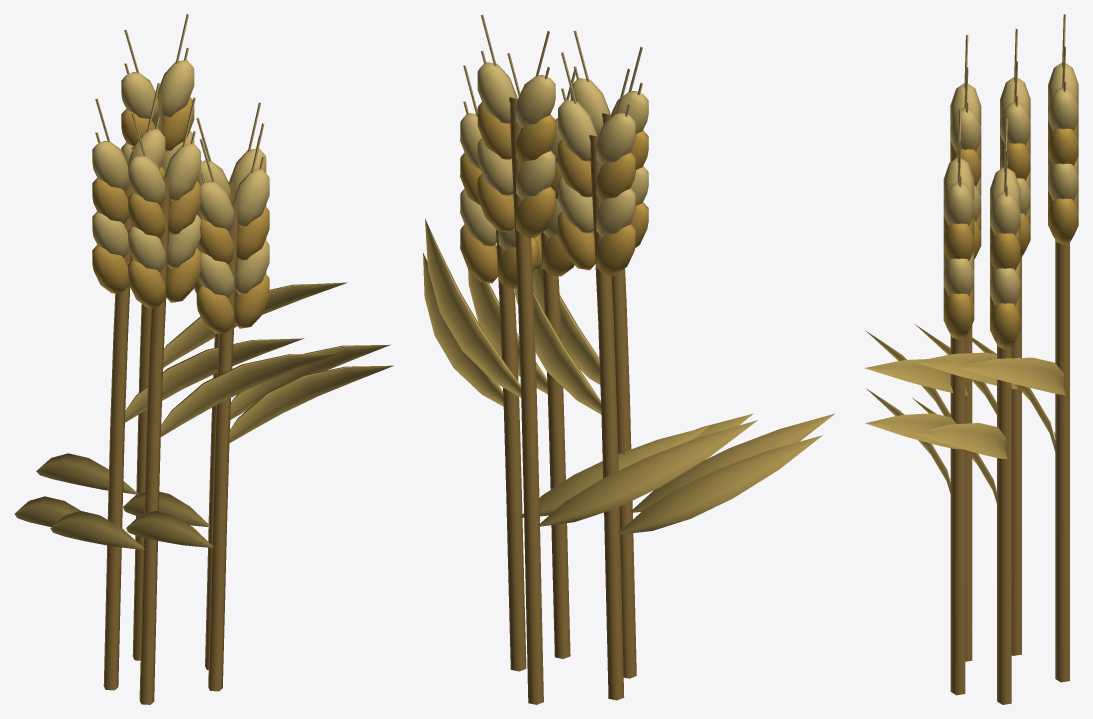
Rendered from trigo_3.glb.
The picture shows the model from 3 angles, left to right: view 1: azimuth 30°, elevation 25°; view 2: azimuth 150°, elevation 25°; view 3: azimuth 270°, elevation 25°; orthographic projection. The views are drawn at different scales.
Parts seen in each view (by area): view 1: trigo_3_espigas_0; view 2: trigo_3_espigas_0; view 3: trigo_3_espigas_0.
Boxes of the visible parts, x1,y1,x2,y2 form: trigo_3_espigas_0: [14, 14, 393, 704]; trigo_3_espigas_0: [423, 14, 835, 704]; trigo_3_espigas_0: [864, 14, 1078, 704].
Bounding box in the file's own units: 0.5032 × 0.8086 × 0.2388.
